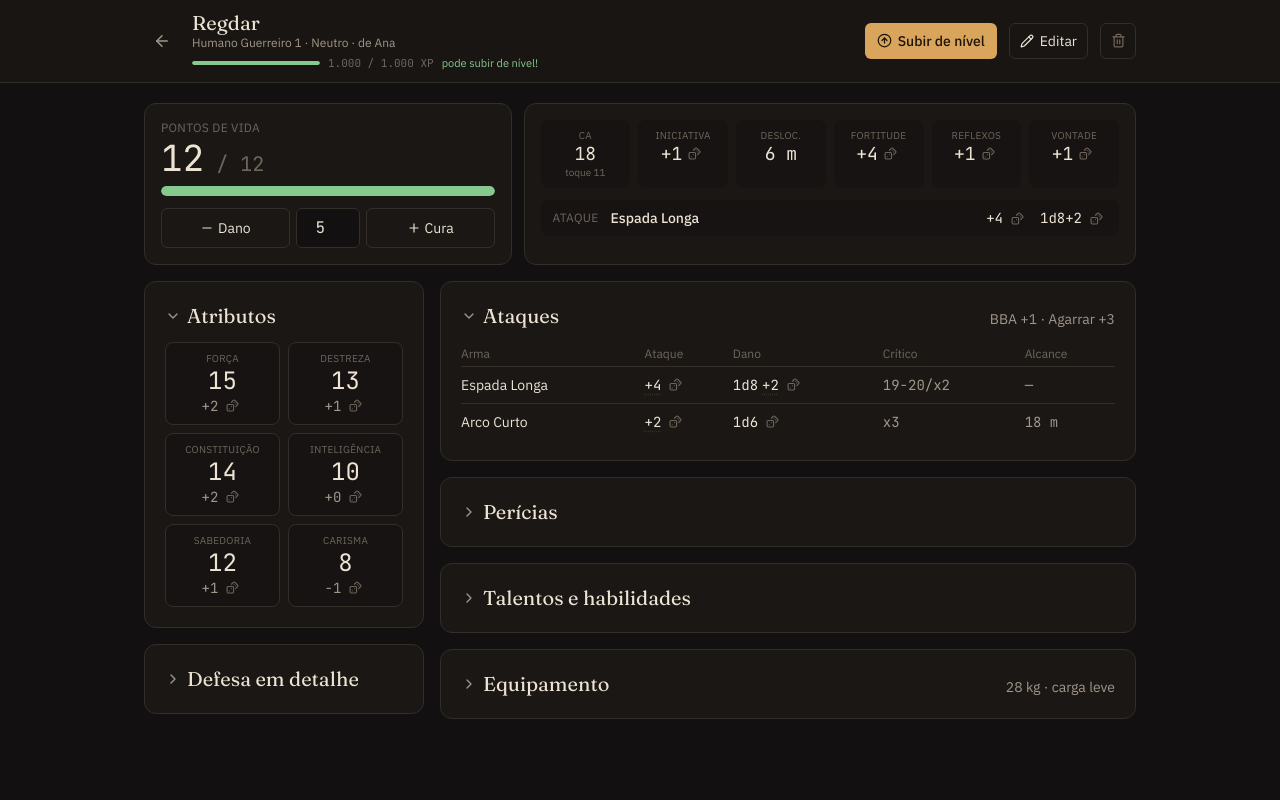
Scenario: CharacterSheet › sobe de nível com um clique na classe principal quando o XP permite
The image size is (1280, 800).
Expected: the text "pode subir de nível!" is shown, [442,55,538,72]
Click the button "Subir de nível".
click(931, 41)  # box [865,23,997,59]
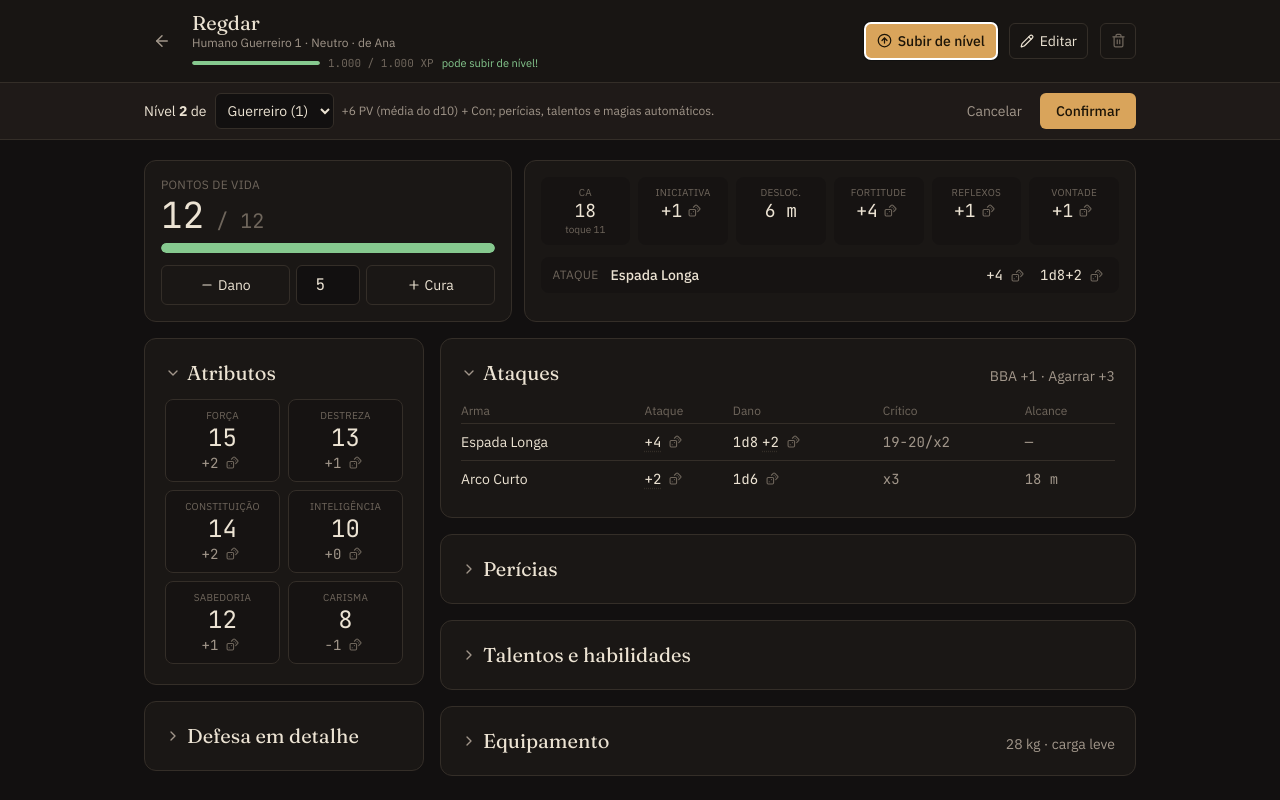
Result: the dropdown named "Classe do novo nível" shows "Guerreiro (1)" at [214,92,334,128]
Click the button "Confirmar".
click(1088, 110)  # box [1040,92,1136,128]
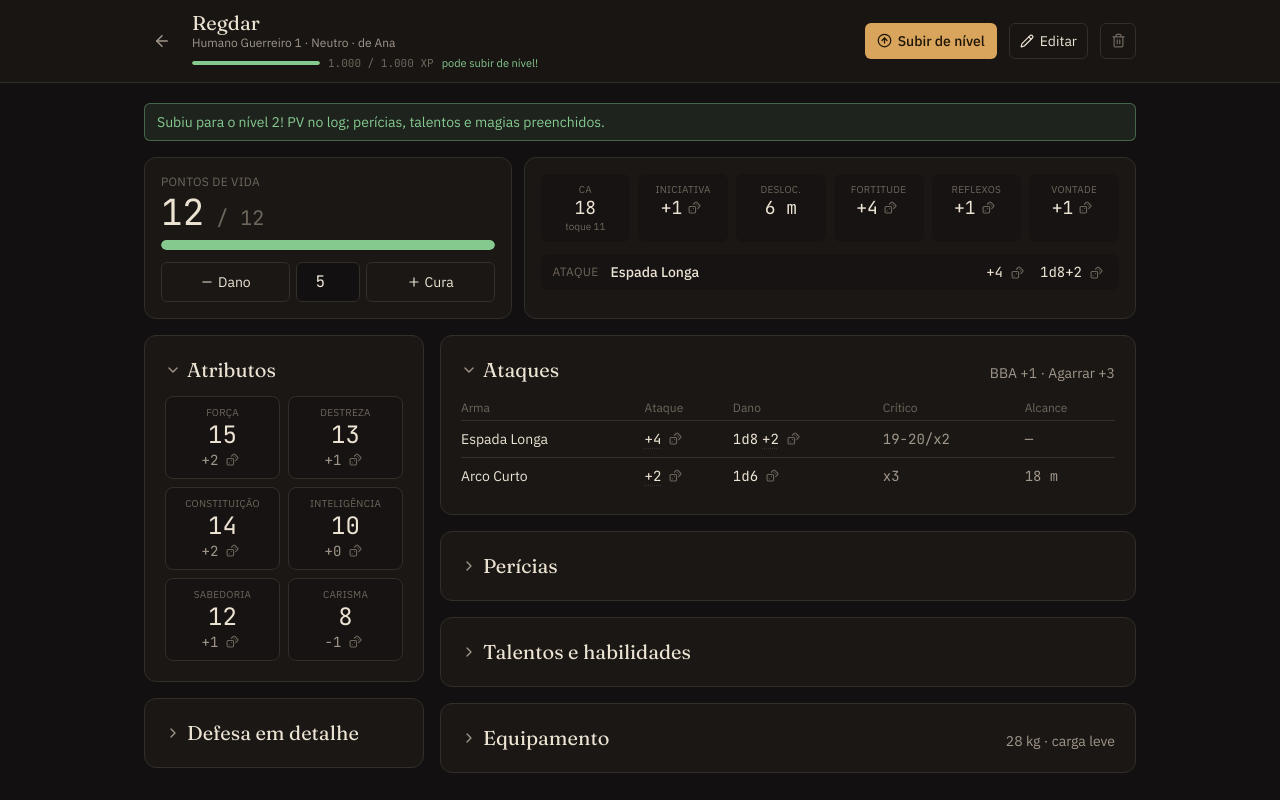
Result: the message shows "nível 2" at [157,112,605,130]
